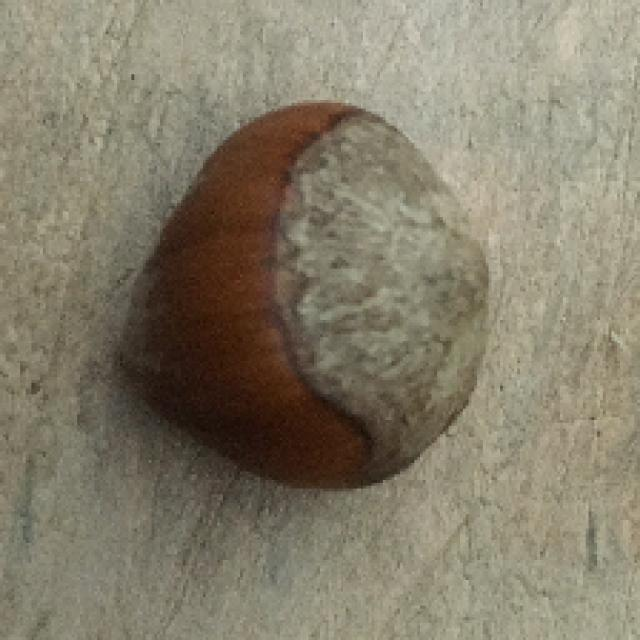QualityHazelnut: (112, 103, 490, 486)
